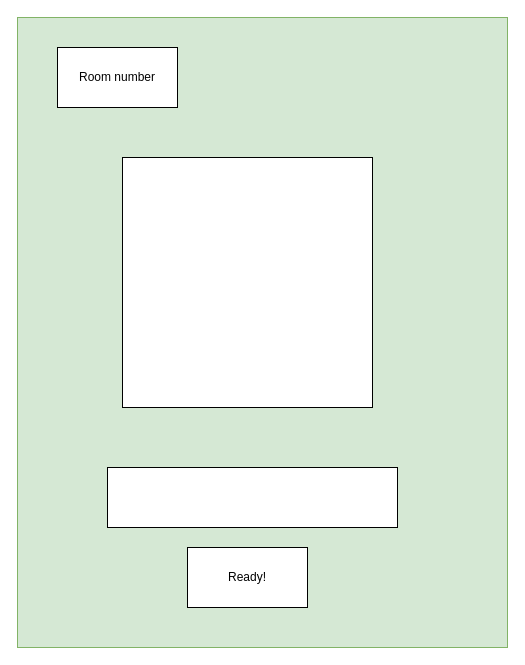
The diagram is 525 pixels wide and 665 high, and some of its shapes have lost their labels. The shapes that lost their labels are listed below. From the top down, each one's box as (x1, y1, x2, y2) in pixels, then its label:
(122, 156, 372, 408): existing member
(106, 466, 398, 528): Nick Name
